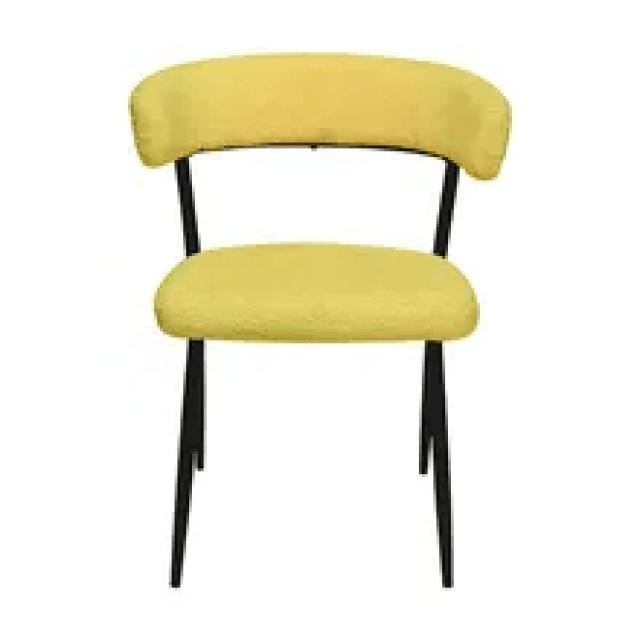chair: (123, 48, 512, 590), (127, 51, 513, 343)
